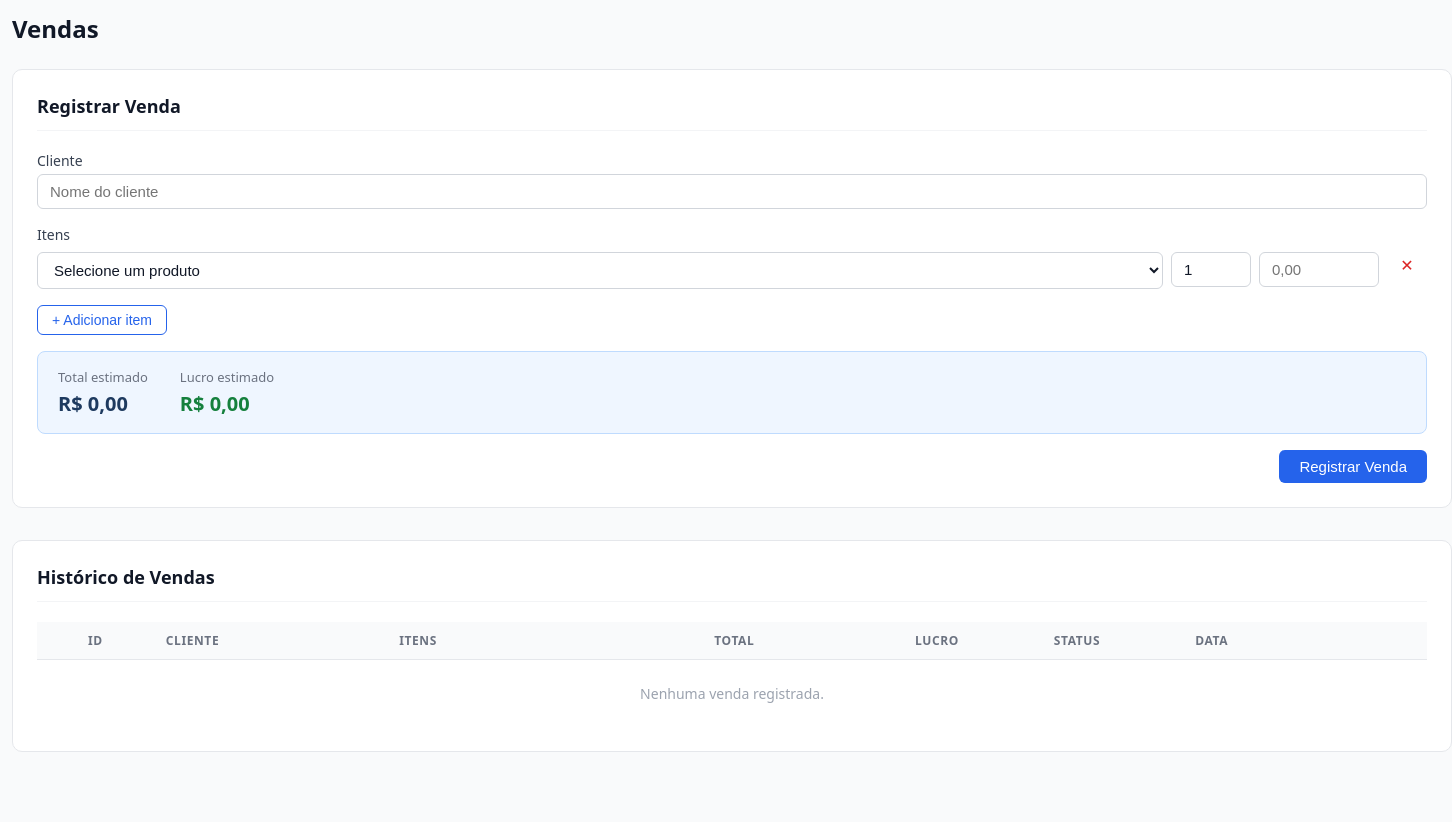
VendasView › exibe erro quando API retorna estoque insuficiente
This screenshot has width=1452, height=822.
Type "Cliente Y" into the field with test id "input-cliente" at (732, 192), box [37,174,1427,209]
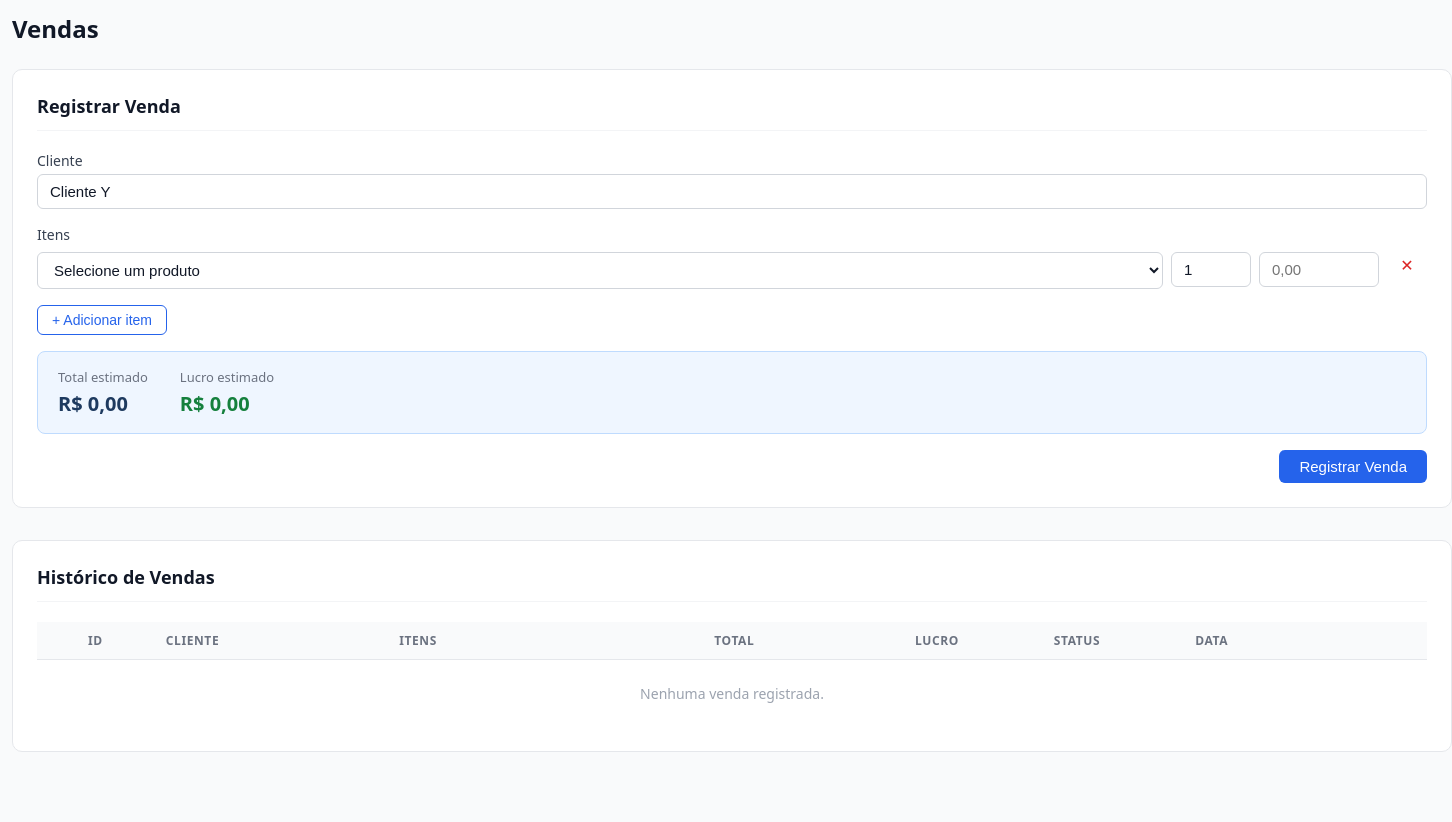
Select "Produto A (estoque: 50)" in the dropdown with test id "select-produto" at (600, 270), box [37,252,1163,289]
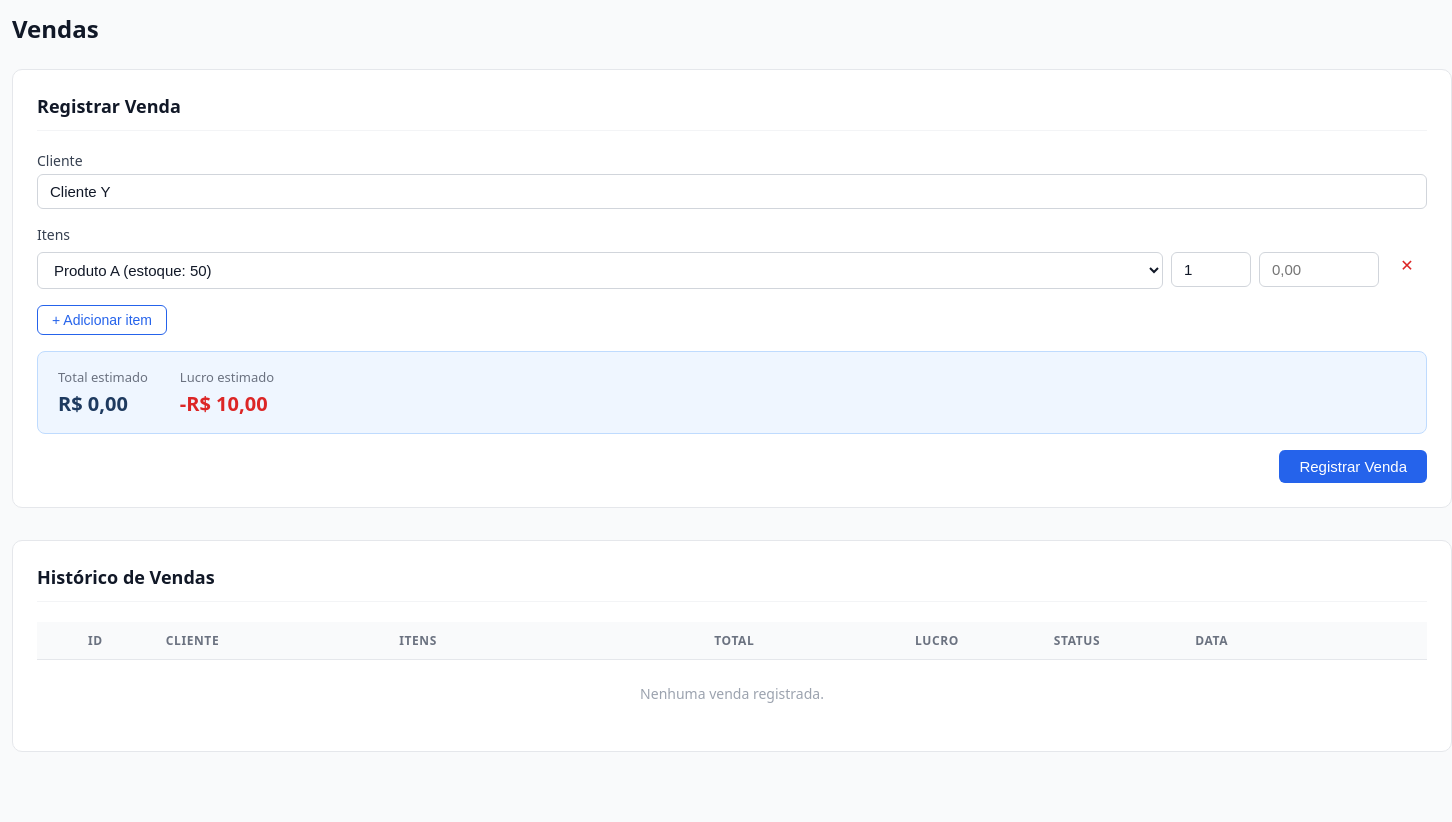
Replace the text in the number field with test id "input-quantidade" with "5" at (1211, 270), box [1171,252,1251,287]
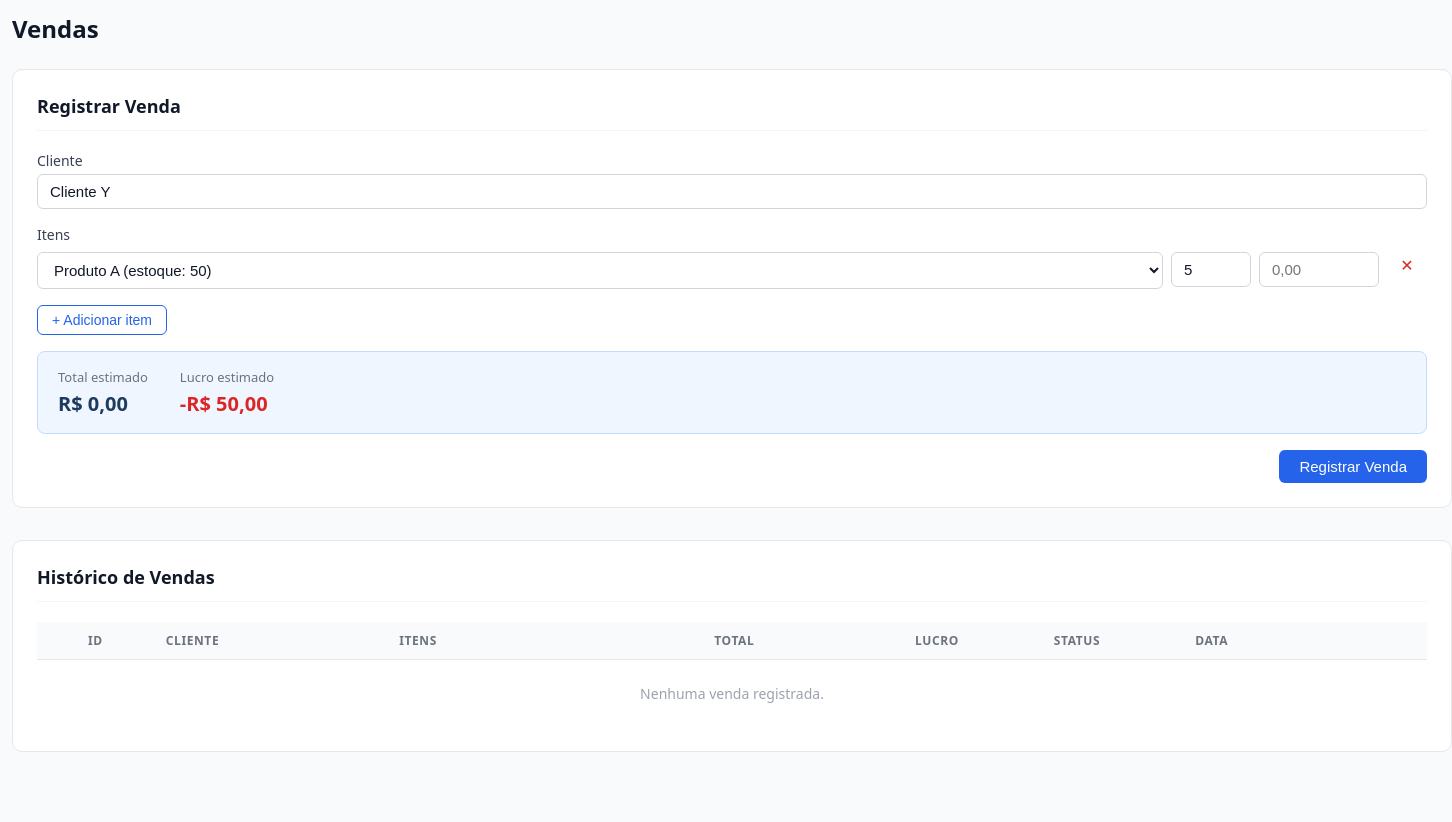
Type "2000" into the field with test id "input-preco-venda" at (1319, 270), box [1259,252,1379,287]
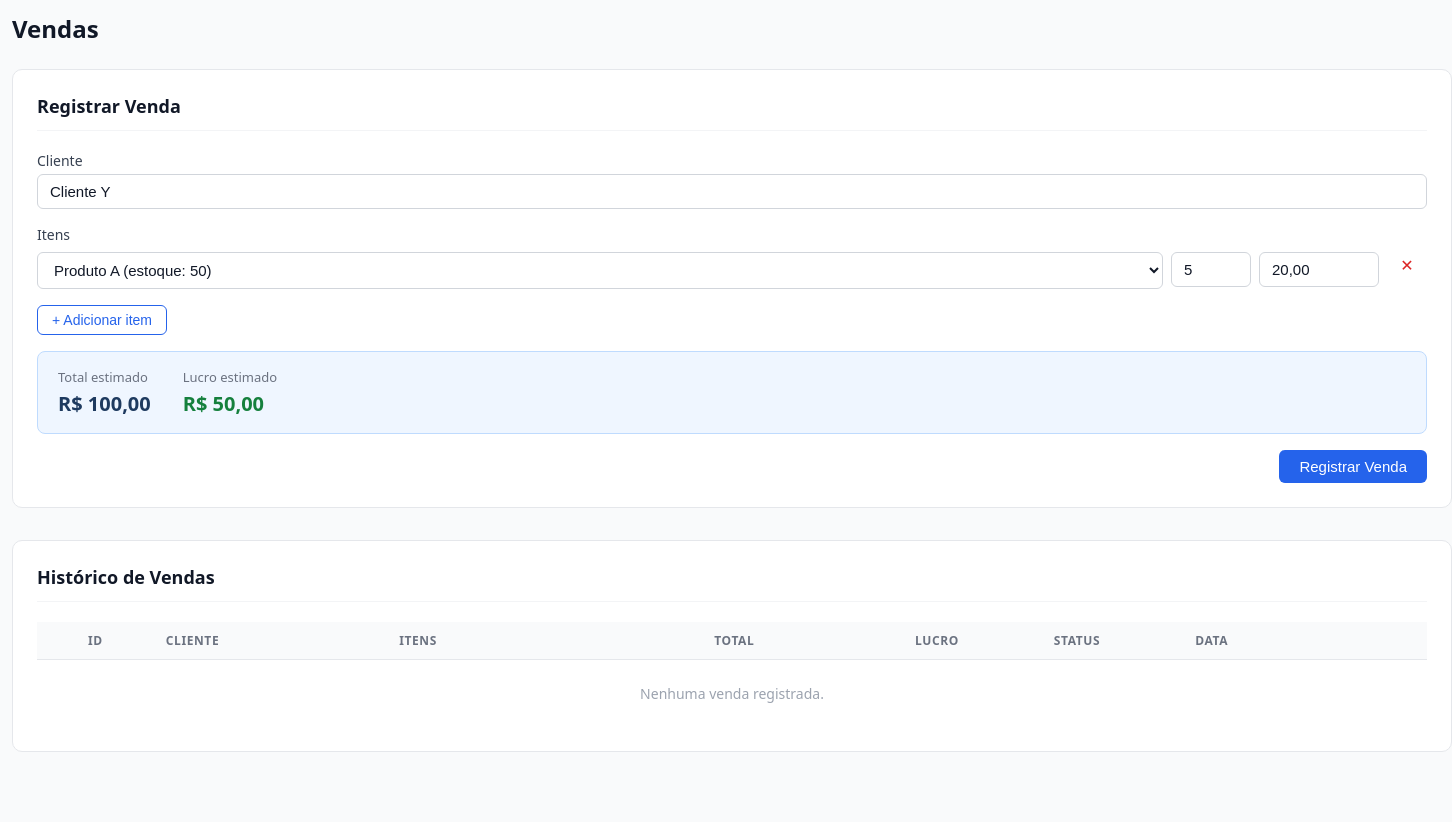
Click the button with test id "btn-registrar" at (1353, 466), box [1279,450,1427,483]
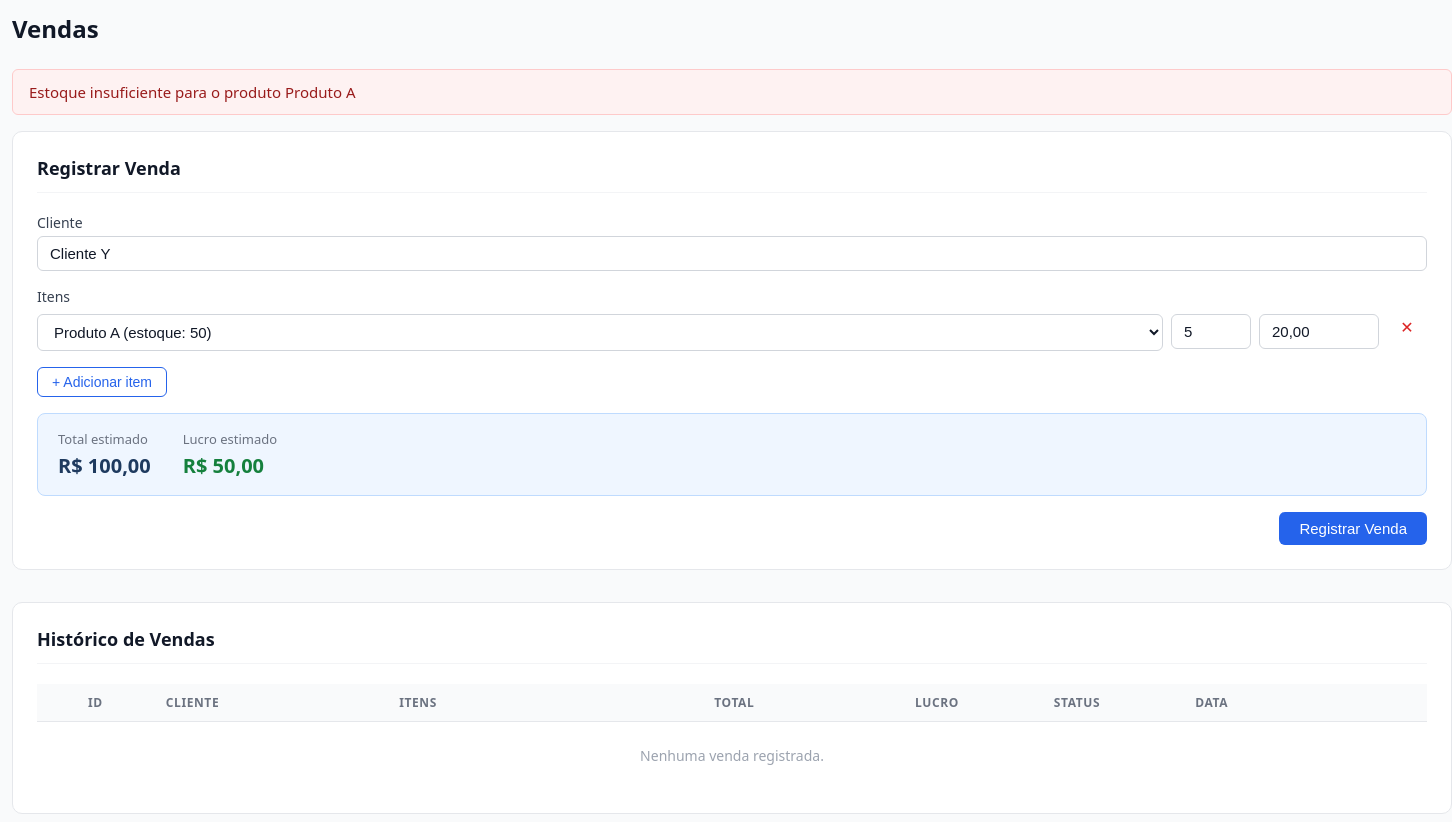
Result: the text "Estoque insuficiente" is shown at [29,82,356,102]
